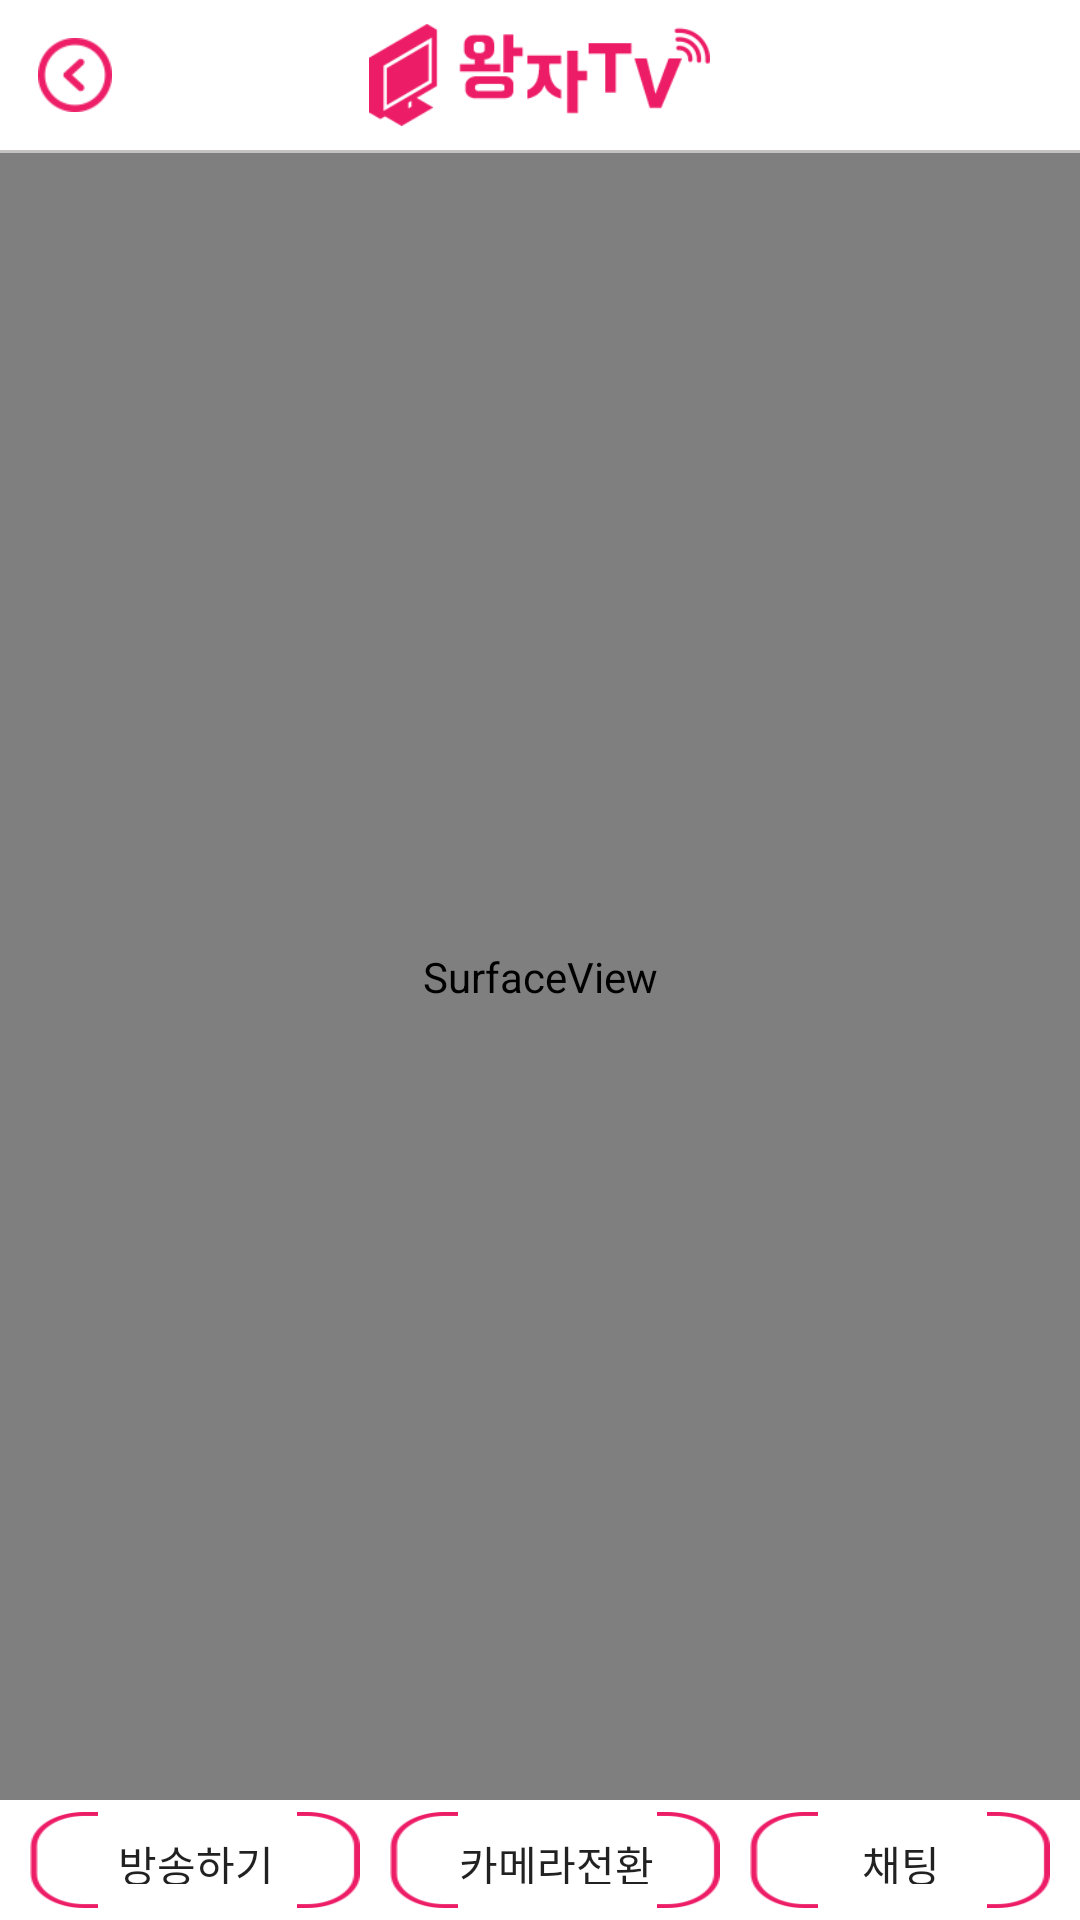

Screen size 1080*1920. Icon name, then its box in pixels as (x1, y1, x2, y2):
back on: (38, 38, 112, 112)
